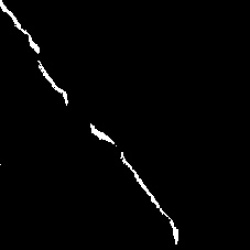crack: (121, 154, 179, 246), (1, 1, 40, 53), (39, 61, 68, 107), (89, 123, 116, 144)
